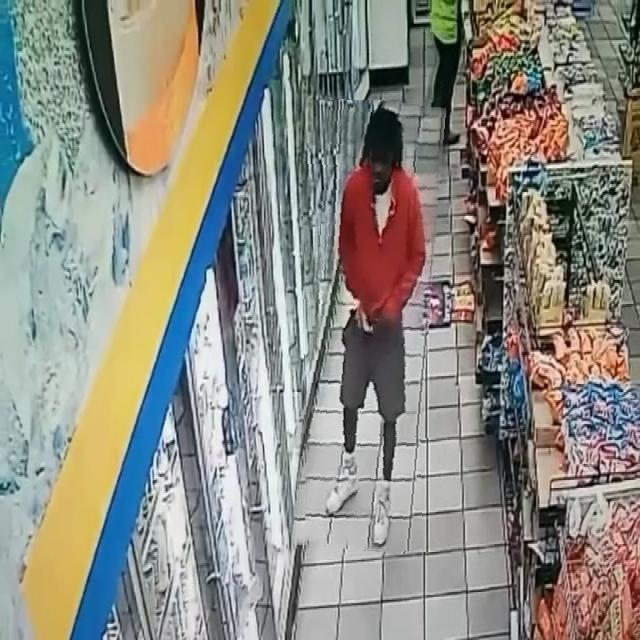Shoplifting: (302, 101, 436, 553)
